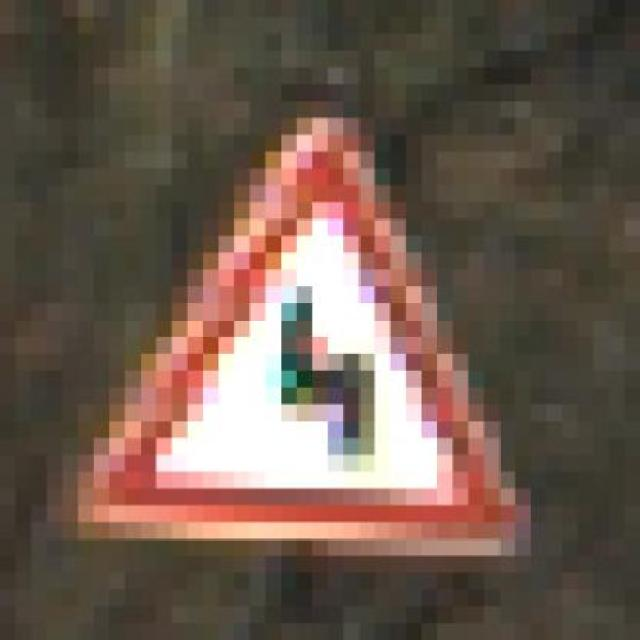Left Zig Zag Traffic: (47, 118, 562, 590)
